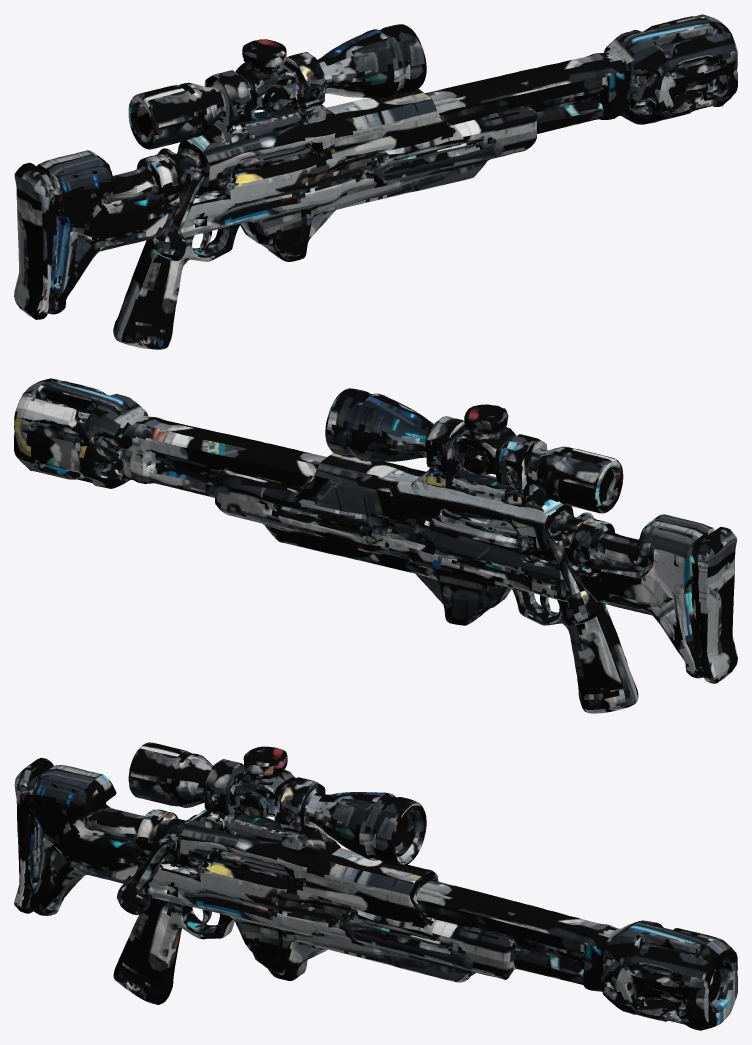
The model's file is Sci-fi_SniperRifle_Low50k.fbx.
3 renders of one model, top to bottom at view 1: azimuth 30°, elevation 25°; view 2: azimuth 150°, elevation 25°; view 3: azimuth 330°, elevation 25°, orthographic.
Parts seen in each view (by area): view 1: Sci-fi_SniperRifle_Low; view 2: Sci-fi_SniperRifle_Low; view 3: Sci-fi_SniperRifle_Low.
Boxes of the visible parts, x1,y1,x2,y2 form: Sci-fi_SniperRifle_Low: (14,14,737,349); Sci-fi_SniperRifle_Low: (14,378,737,713); Sci-fi_SniperRifle_Low: (14,742,737,1030).
Bounding box in the file's own units: 99.97 × 37.5 × 12.95.
Materials: 1 (1 with a texture image).
